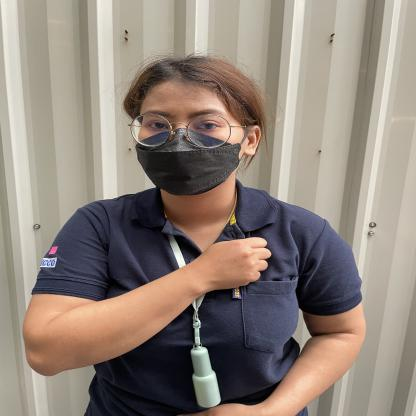Sadness: (125, 211, 303, 312)
